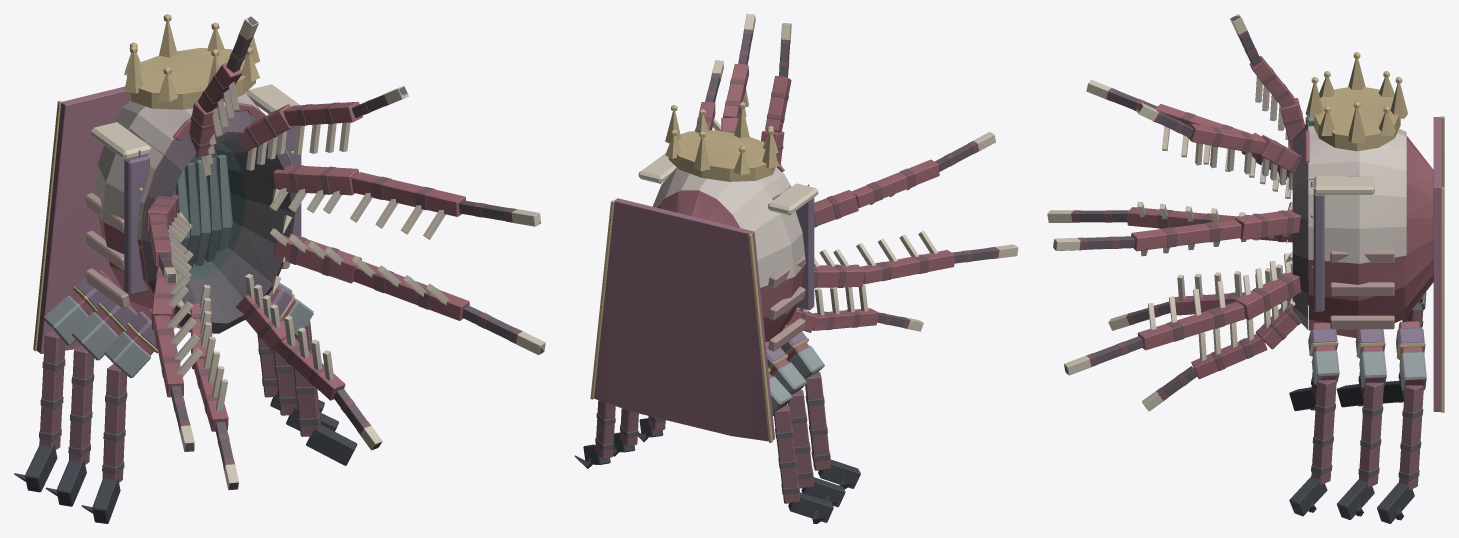
Rendered from AdaptedVisceraKing.glb.
3 renders of one model, left to right at view 1: azimuth 30°, elevation 25°; view 2: azimuth 150°, elevation 25°; view 3: azimuth 270°, elevation 25°, orthographic. The views are drawn at different scales.
Parts seen in each view (by area): view 1: Body, LegR, ArmR, ArmL, LegL; view 2: Body, ArmR, LegR, LegL, ArmL; view 3: Body, LegL, ArmL, LegR, ArmR.
Boxes of the visible parts, <box> form: Body: <box>33,14,545,506</box>; LegR: <box>14,270,115,492</box>; ArmR: <box>81,308,158,523</box>; ArmL: <box>268,285,357,465</box>; LegL: <box>257,336,324,412</box>; Body: <box>590,14,1018,507</box>; ArmR: <box>780,323,860,489</box>; LegR: <box>768,368,833,523</box>; LegL: <box>574,400,615,468</box>; ArmL: <box>638,416,665,441</box>; Body: <box>1047,14,1444,519</box>; LegL: <box>1377,321,1426,523</box>; ArmL: <box>1289,322,1339,516</box>; LegR: <box>1382,292,1426,403</box>; ArmR: <box>1289,372,1316,411</box>.
Size of the model in its own units: 8.02 by 10.39 by 8.46.
